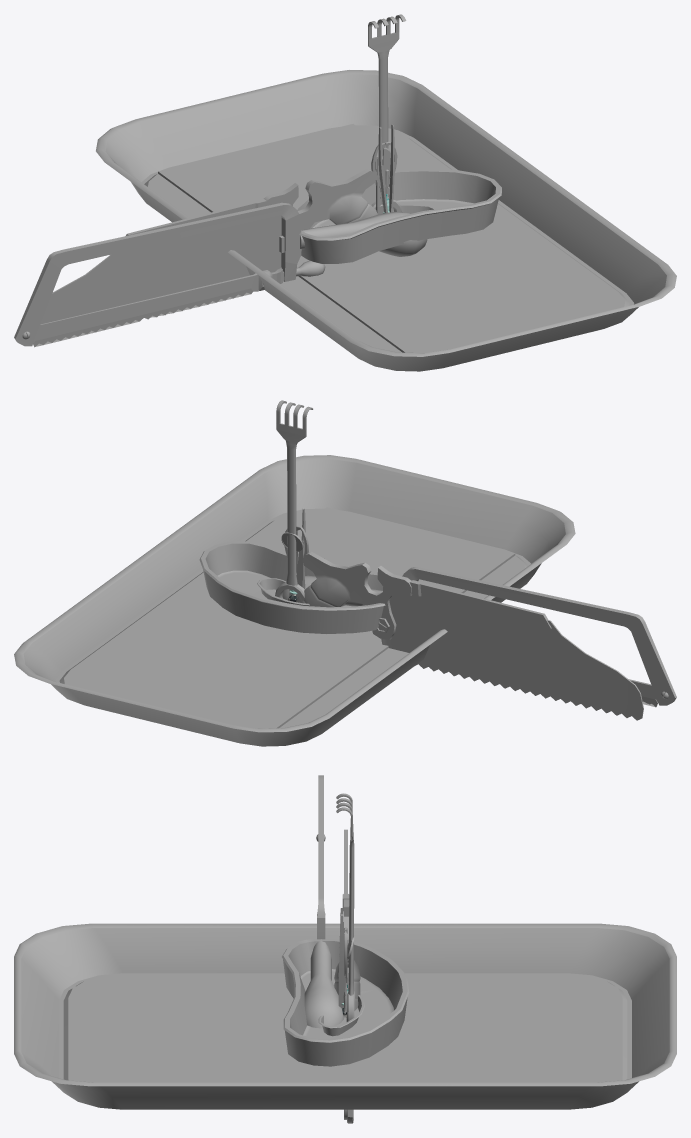
File: Surgical_instruments.fbx
3 views of the same model, one above another, from view 1: azimuth 30°, elevation 25°; view 2: azimuth 150°, elevation 25°; view 3: azimuth 270°, elevation 25° (orthographic). The views are drawn at different scales.
Parts seen in each view (by area): view 1: Tray, Napkin, Surgical_saw_02, Surgical_saw_01, Tray1, Surgical_hook, Forceps; view 2: Tray, Napkin, Surgical_saw_02, Tray1, Surgical_saw_01, Surgical_hook; view 3: Tray, Napkin, Tray1, Surgical_saw_01, Surgical_hook, Surgical_saw_02, Forceps.
Part boxes in pixels (<box>): Tray: <box>96,70,676,371</box>; Napkin: <box>158,124,608,352</box>; Surgical_saw_02: <box>41,168,377,324</box>; Surgical_saw_01: <box>14,202,427,347</box>; Tray1: <box>294,168,501,263</box>; Surgical_hook: <box>368,14,405,211</box>; Forceps: <box>378,124,394,212</box>; Tray: <box>14,455,575,746</box>; Napkin: <box>80,507,515,728</box>; Surgical_saw_02: <box>296,552,643,720</box>; Tray1: <box>199,541,385,633</box>; Surgical_saw_01: <box>282,567,676,707</box>; Surgical_hook: <box>275,400,313,601</box>; Tray: <box>14,923,676,1109</box>; Napkin: <box>72,986,618,1082</box>; Tray1: <box>282,938,409,1066</box>; Surgical_saw_01: <box>304,775,343,1028</box>; Surgical_hook: <box>336,793,354,1123</box>; Surgical_saw_02: <box>334,829,360,1010</box>; Forceps: <box>338,908,345,1008</box>.
Bounding box in the file's own units: 0.00708 × 0.00383 × 0.00718.
